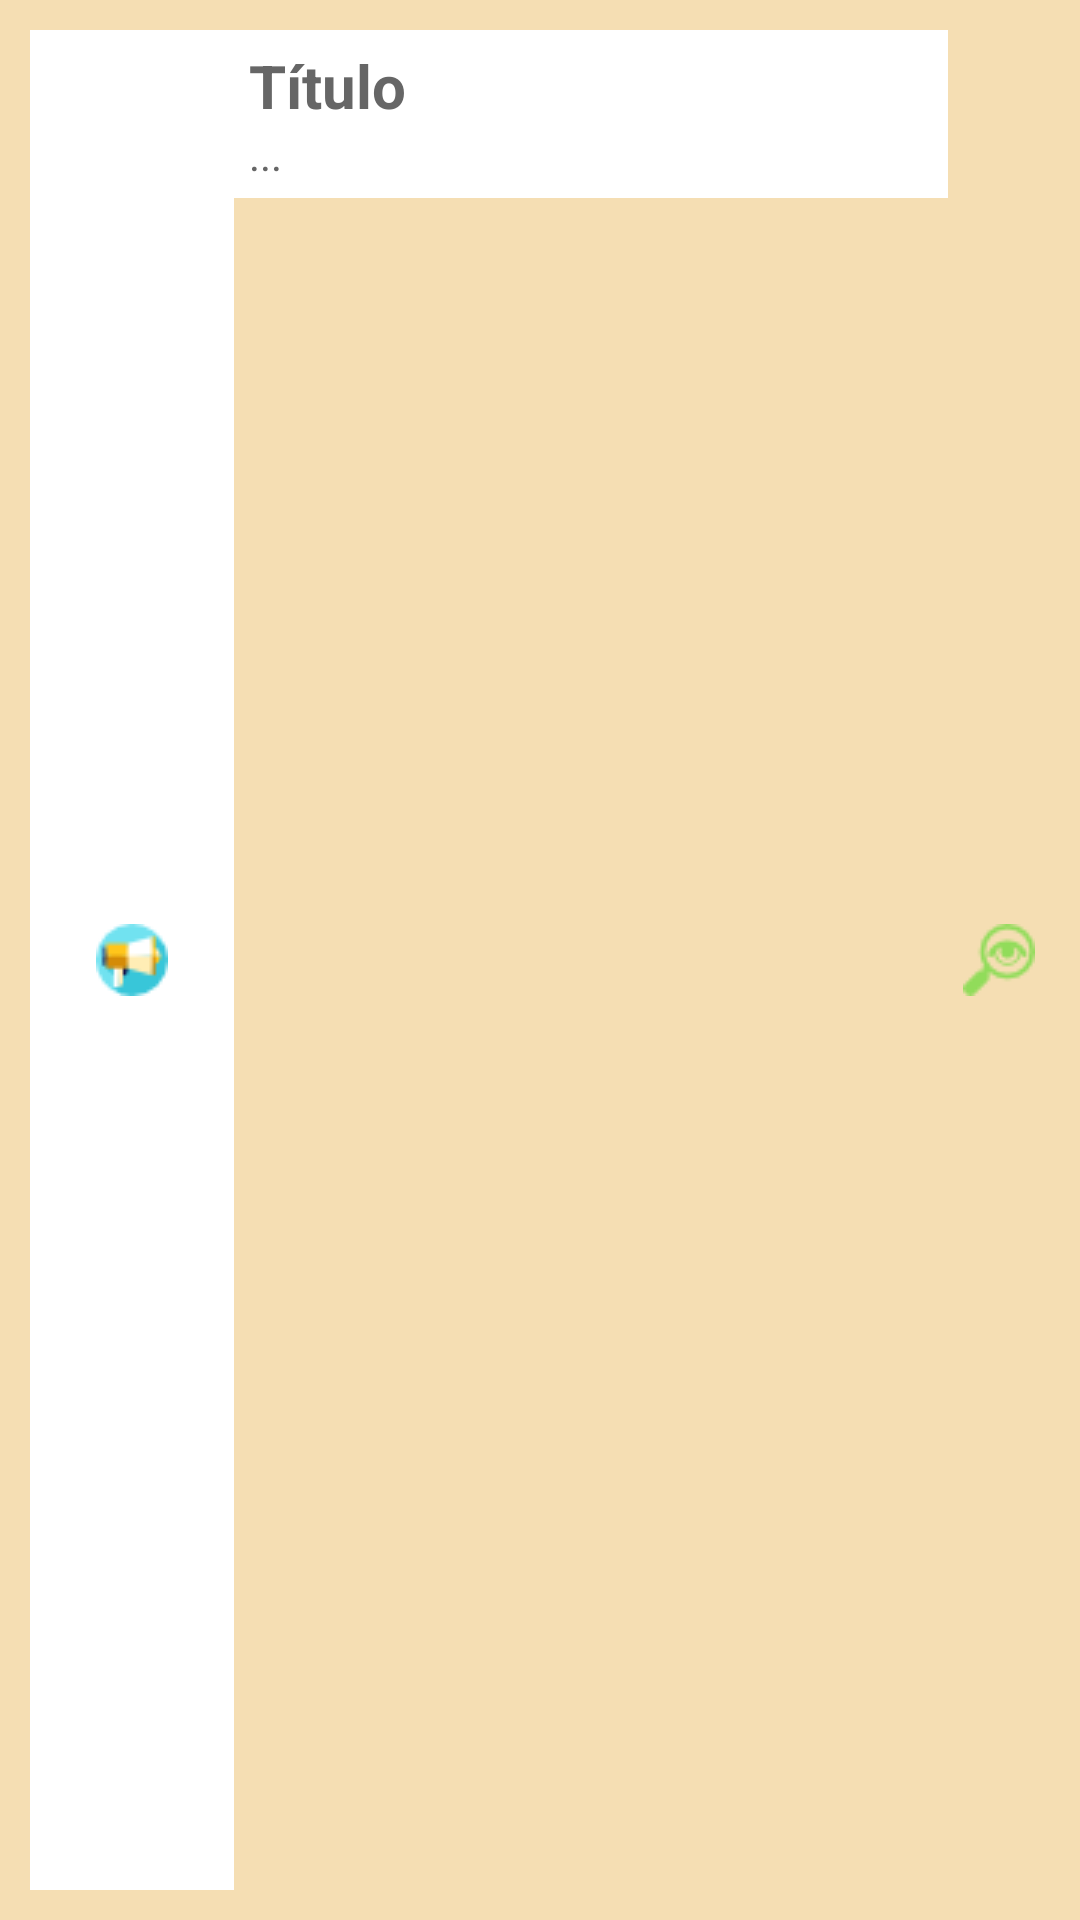

Screen size 1080×1920. Icon name, then its box in pixels as (x1, y1, x2, y2):
ver: (963, 924, 1035, 996)
